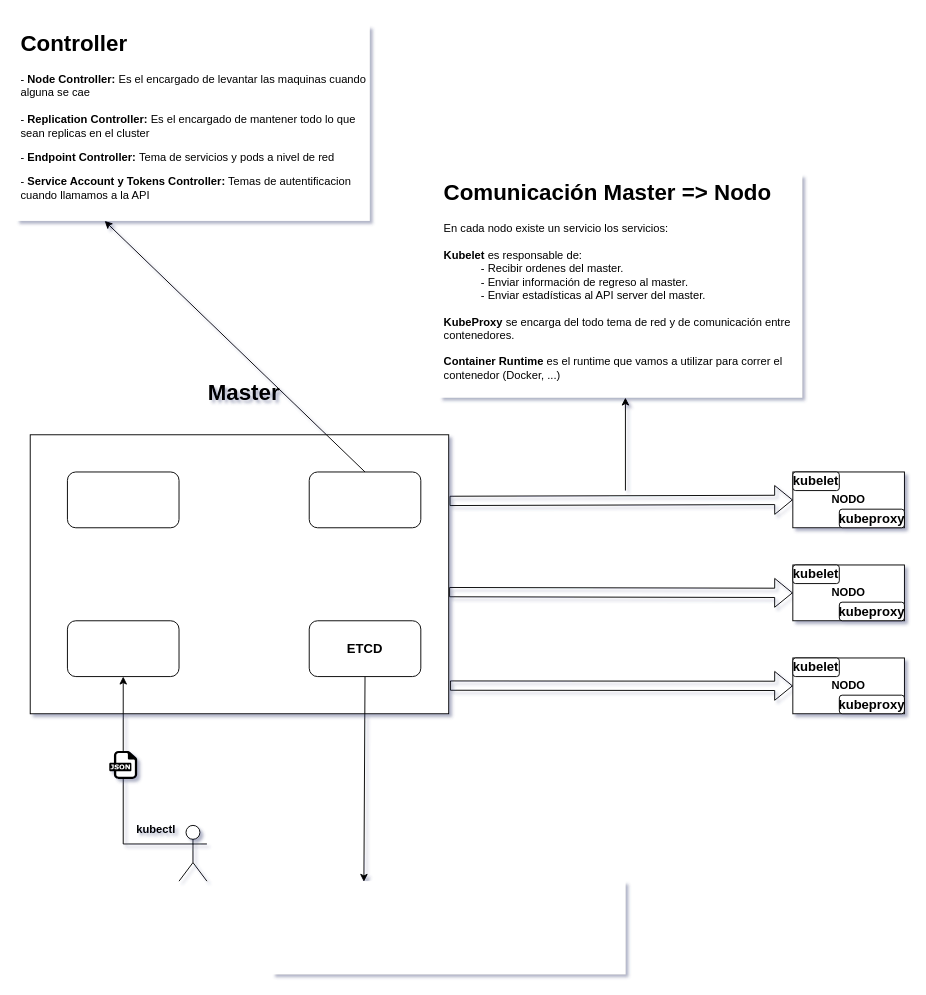
The diagram is 926 pixels wide and 995 high, and some of its shapes have lost their labels. Here are the shapes that lost their labels. From the top down, the centre of each, then its label:
the point at 122,499: Scheduler
the point at 364,499: Controller
the point at 122,648: API
the point at 192,852: Actor
the point at 448,927: ETCD Base de datos de clave valor donde el cluster almacena los datos:
